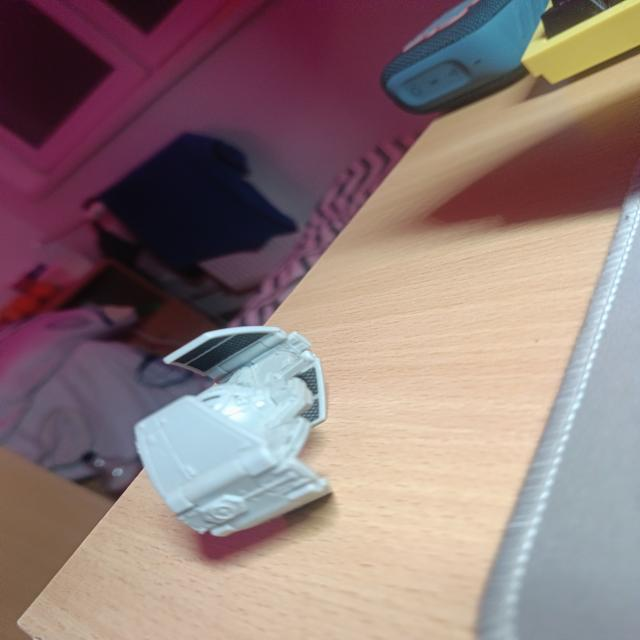tie fighter: (135, 326, 330, 537)
